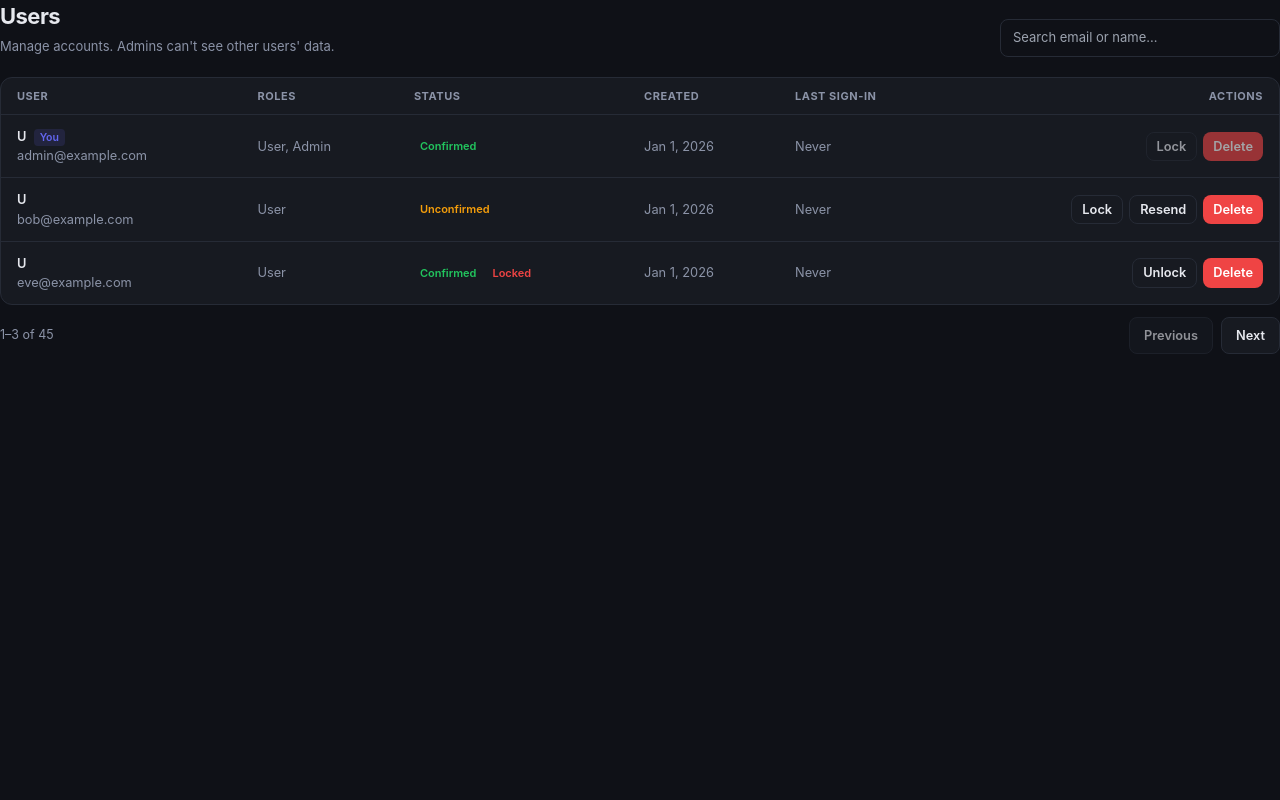
AdminUsersPageComponent › maps the cannot_* refusal codes to friendly messages
The image size is (1280, 800).
Click the button "Lock" in the row of "bob@example.com".
click(1097, 210)  # box [1071,195,1123,224]
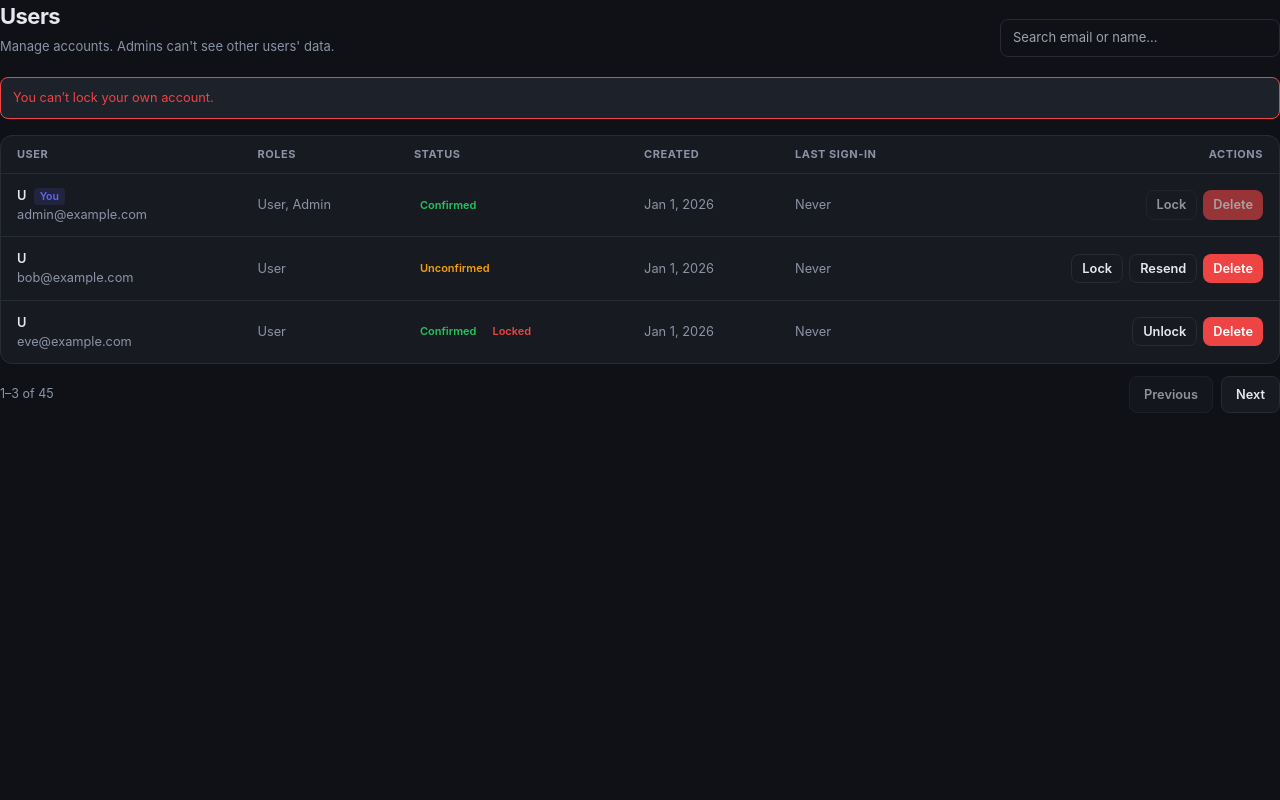
Expected: the message "You can’t lock your own account." is shown, [0,76,1279,119]
Click the button "Delete" in the row of "bob@example.com".
click(1233, 268)  # box [1203,254,1263,283]
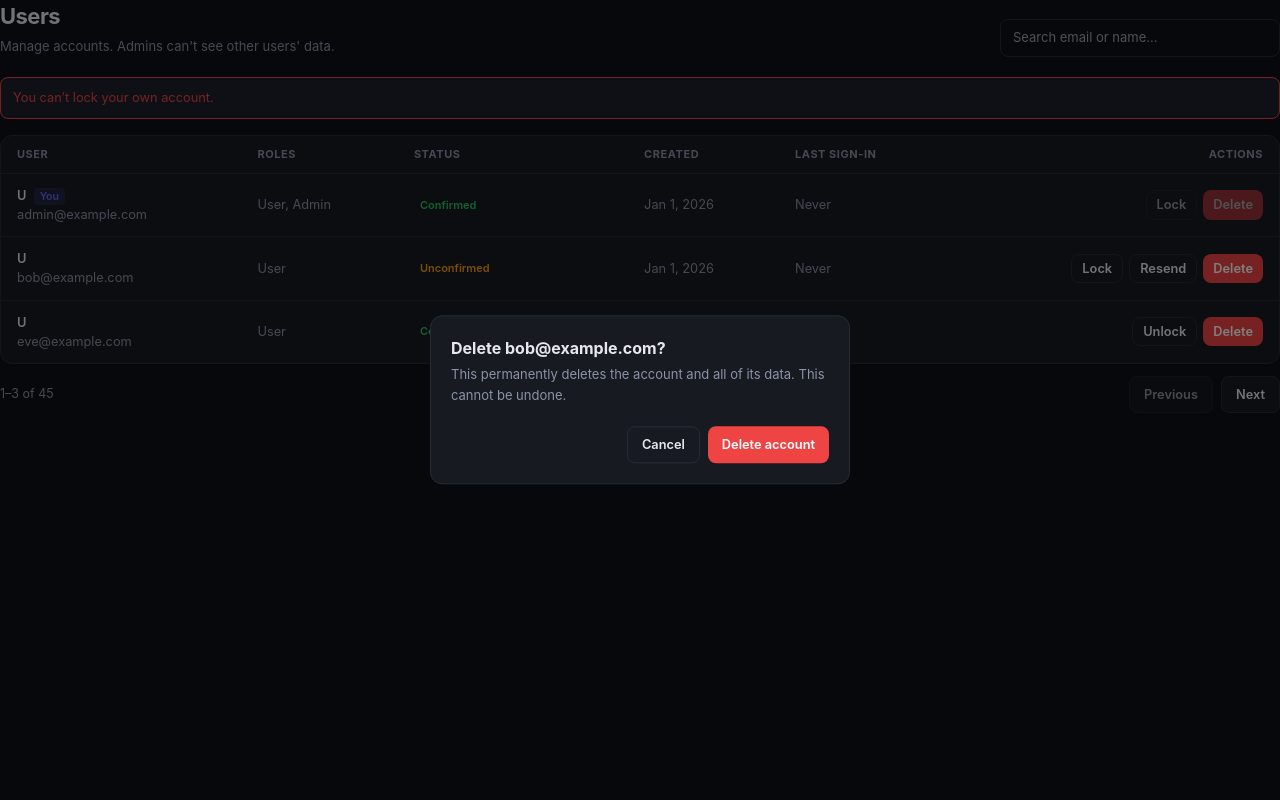
Click the button "Delete account".
click(768, 445)  # box [708,426,829,464]
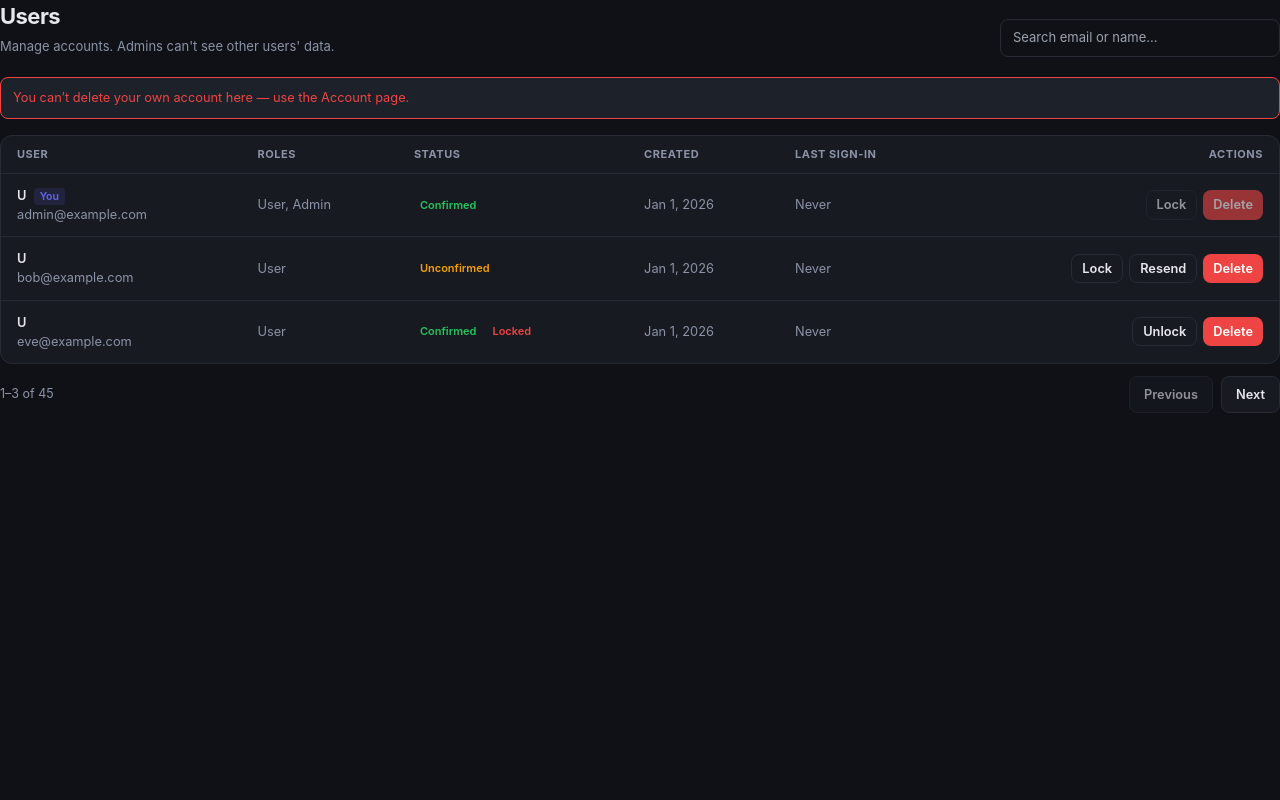
Expected: the message "You can’t delete your own account here — use the Account page." is shown, [0,76,1279,119]
